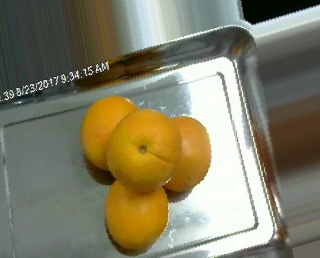Orange: (107, 107, 181, 192), (80, 95, 143, 171), (106, 179, 167, 249), (162, 115, 209, 189)
